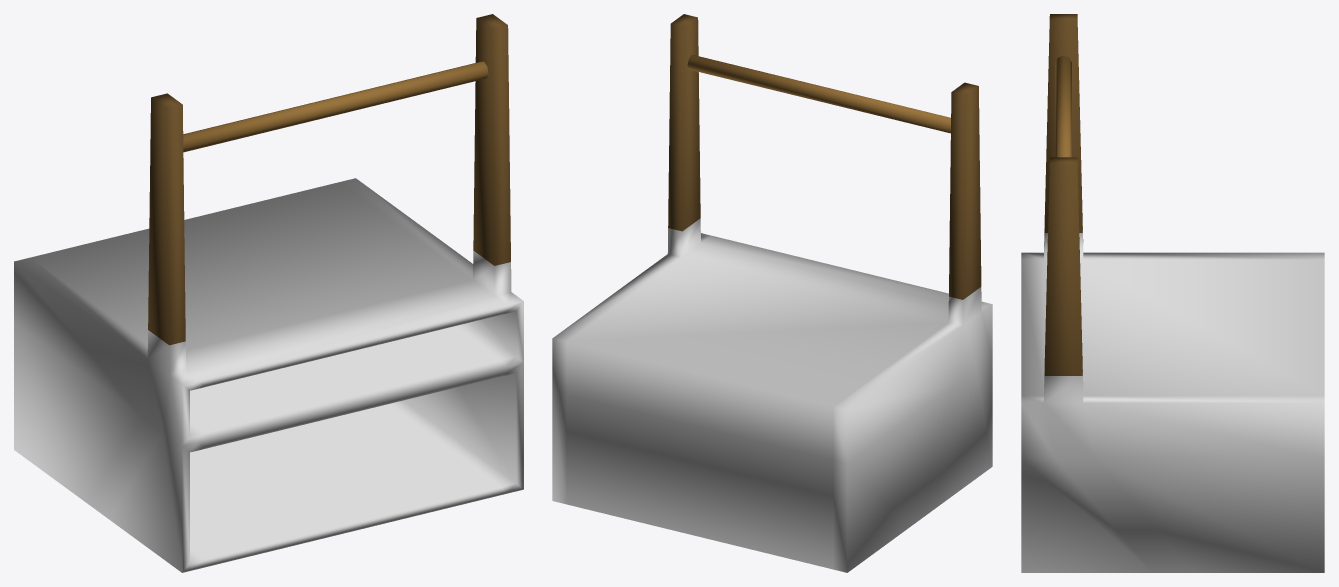
File: K_DrawerBlue.glb
3 renders of one model, left to right at view 1: azimuth 30°, elevation 25°; view 2: azimuth 150°, elevation 25°; view 3: azimuth 270°, elevation 25°, orthographic. The views are drawn at different scales.
Parts seen in each view (by area): view 1: Kitchen_DrawerBig; view 2: Kitchen_DrawerBig; view 3: Kitchen_DrawerBig.
Boxes of the visible parts, left/top/right/bottom form: Kitchen_DrawerBig: left=14, top=14, right=523, bottom=572; Kitchen_DrawerBig: left=552, top=14, right=992, bottom=572; Kitchen_DrawerBig: left=1021, top=14, right=1324, bottom=572.
Bounding box in the file's own units: 1.47 × 1.86 × 1.25.
